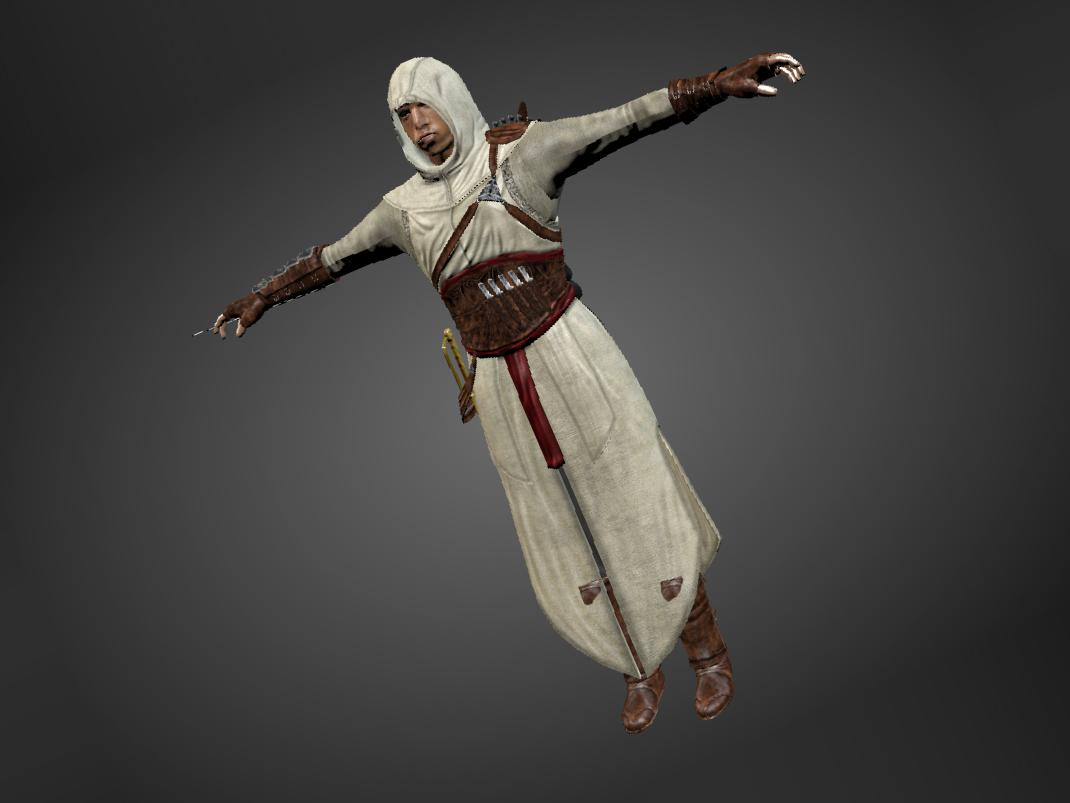clip: (654, 571, 694, 606), (574, 576, 604, 610)
